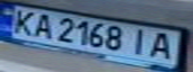1: (69, 18, 90, 46)
2: (51, 15, 75, 44)
6: (87, 20, 109, 48)
8: (103, 24, 127, 53)
A: (145, 29, 181, 61), (27, 11, 57, 40)
I: (124, 26, 157, 56)
K: (6, 7, 42, 36)
